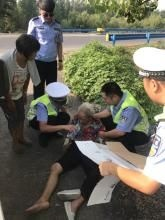falling: (24, 94, 104, 219)
